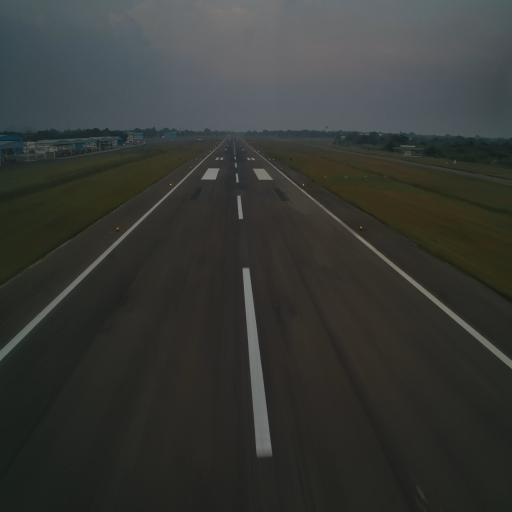on: (116, 225, 120, 233), (169, 180, 172, 187), (360, 224, 363, 230), (302, 183, 305, 187)
